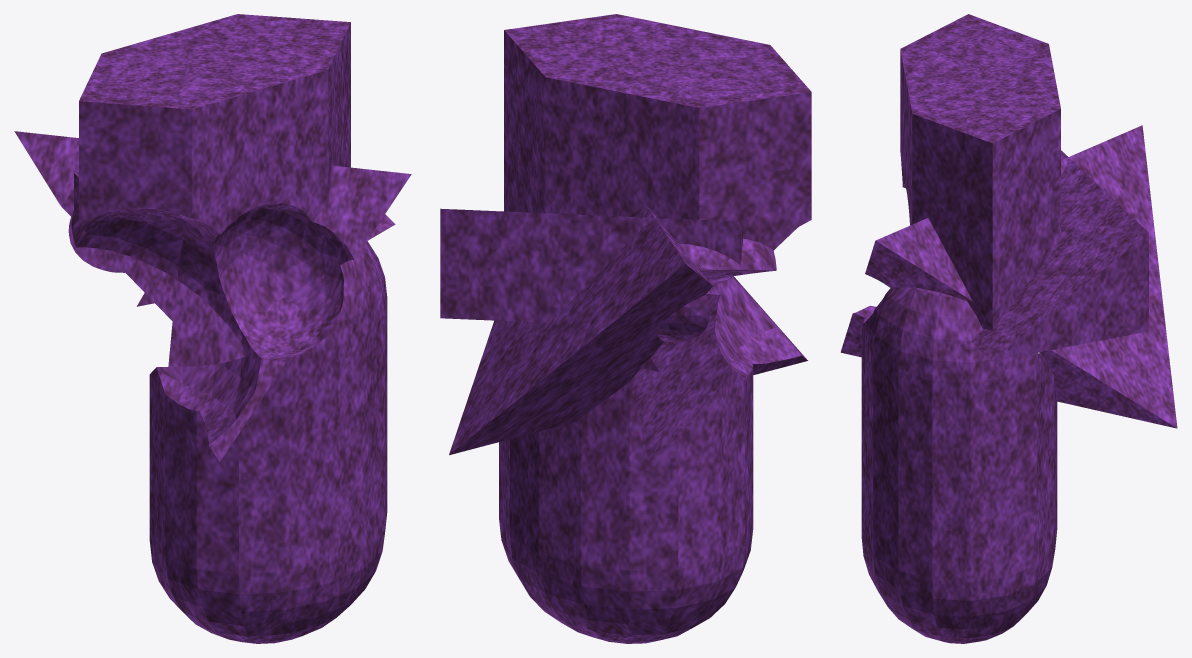
The picture shows the model from 3 angles, left to right: view 1: azimuth 30°, elevation 25°; view 2: azimuth 150°, elevation 25°; view 3: azimuth 270°, elevation 25°; orthographic projection. The views are drawn at different scales.
Visible parts, largest first — view 1: geometry_0; view 2: geometry_0; view 3: geometry_0.
Boxes of the visible parts, <box> form: geometry_0: <box>14,14,411,643</box>; geometry_0: <box>440,14,811,643</box>; geometry_0: <box>840,14,1177,643</box>.
Bounding box in the file's own units: 1.49 × 2.48 × 1.42.
1 material, 1 textured.
